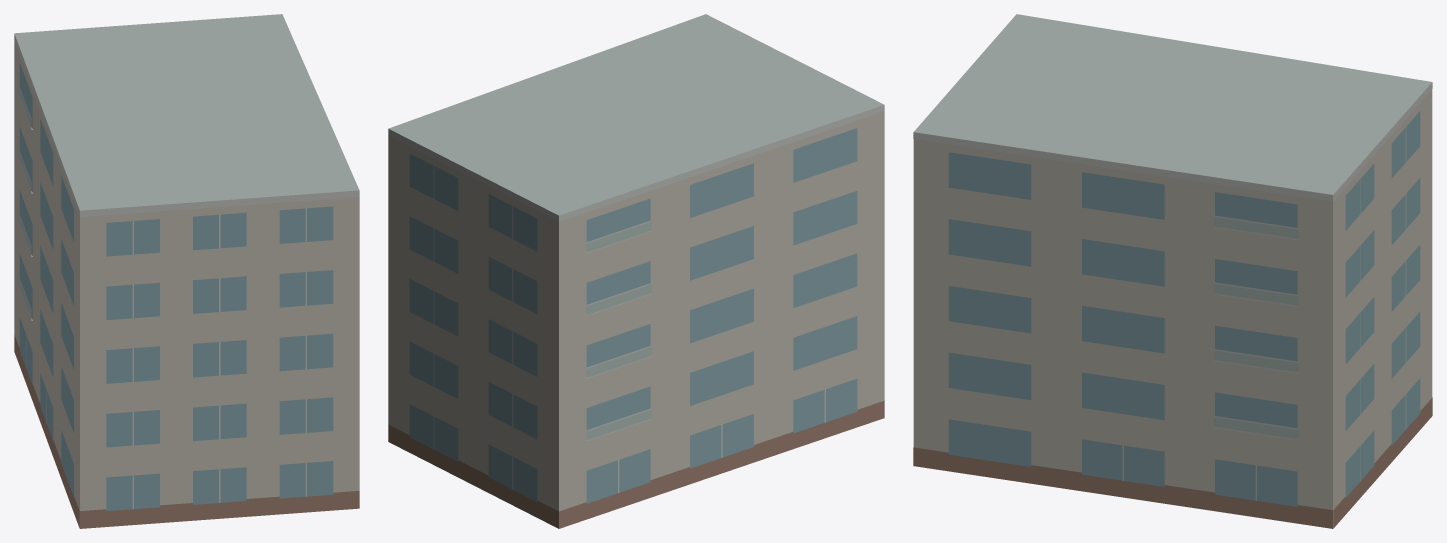
File: survey-upis-32852646.glb
The picture shows the model from 3 angles, left to right: view 1: azimuth 30°, elevation 25°; view 2: azimuth 150°, elevation 25°; view 3: azimuth 270°, elevation 25°; orthographic projection. The views are drawn at different scales.
Parts seen in each view (by area): view 1: survey-upis-32852646.tmp; view 2: survey-upis-32852646.tmp; view 3: survey-upis-32852646.tmp.
Part boxes in pixels (x1=…): survey-upis-32852646.tmp: x1=14, y1=14, x2=359, y2=528; survey-upis-32852646.tmp: x1=388, y1=14, x2=884, y2=528; survey-upis-32852646.tmp: x1=913, y1=14, x2=1432, y2=528.
Size of the model in its own units: 14.07 by 12.1 by 17.05.
